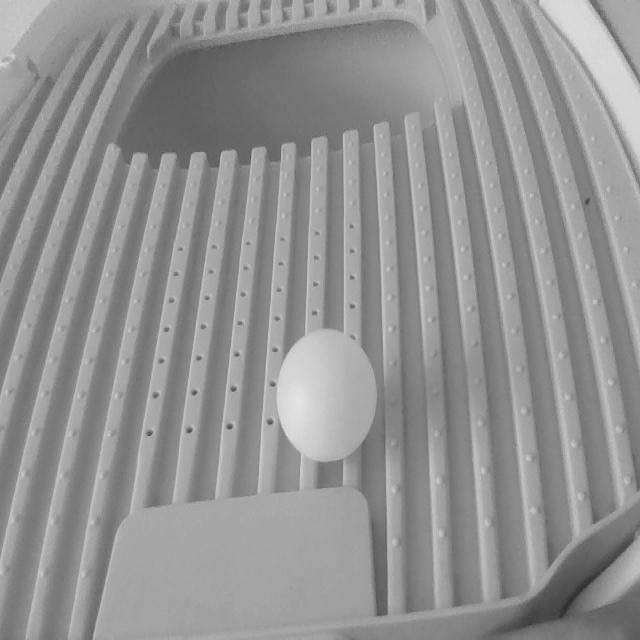ping-pong-ball: (275, 325, 377, 463)
